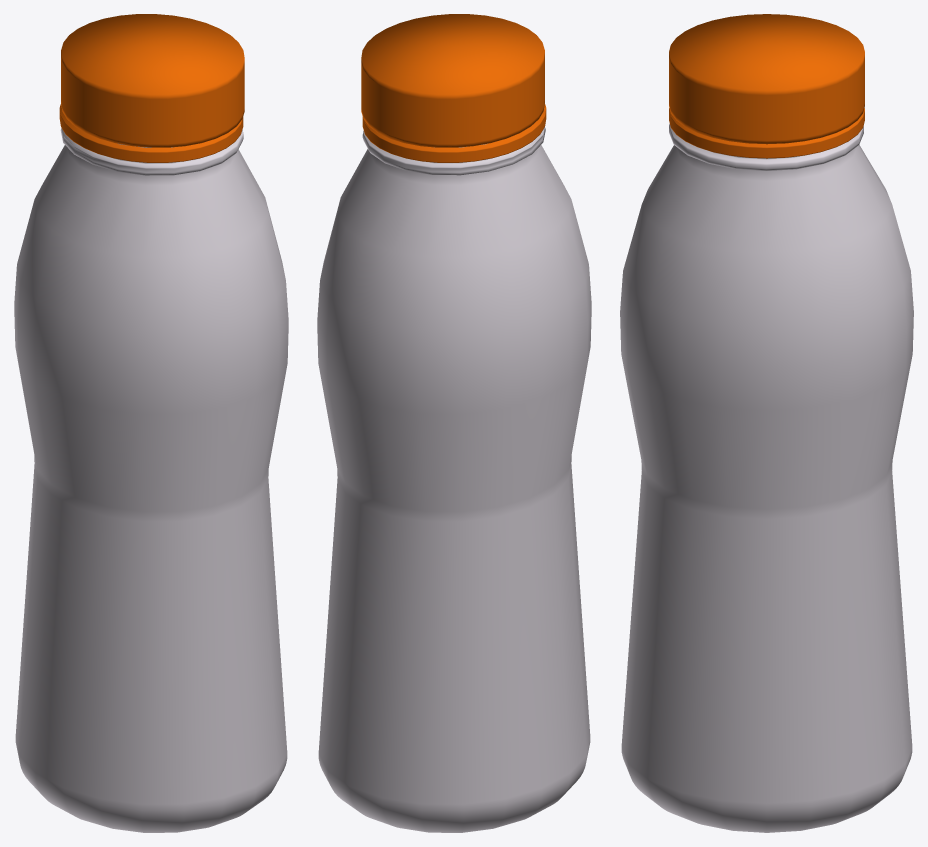
File: Pieni muovipullo.fbx
3 views of the same model, side by side, from view 1: azimuth 30°, elevation 25°; view 2: azimuth 150°, elevation 25°; view 3: azimuth 270°, elevation 25° (orthographic).
Parts seen in each view (by area): view 1: Pullo_pieni; view 2: Pullo_pieni; view 3: Pullo_pieni.
Part boxes in pixels (x1,y1,x2,y2): Pullo_pieni: (14,14,288,832); Pullo_pieni: (317,14,591,832); Pullo_pieni: (620,14,913,832).
Bounding box in the file's own units: 5.87 × 18.03 × 6.36.
